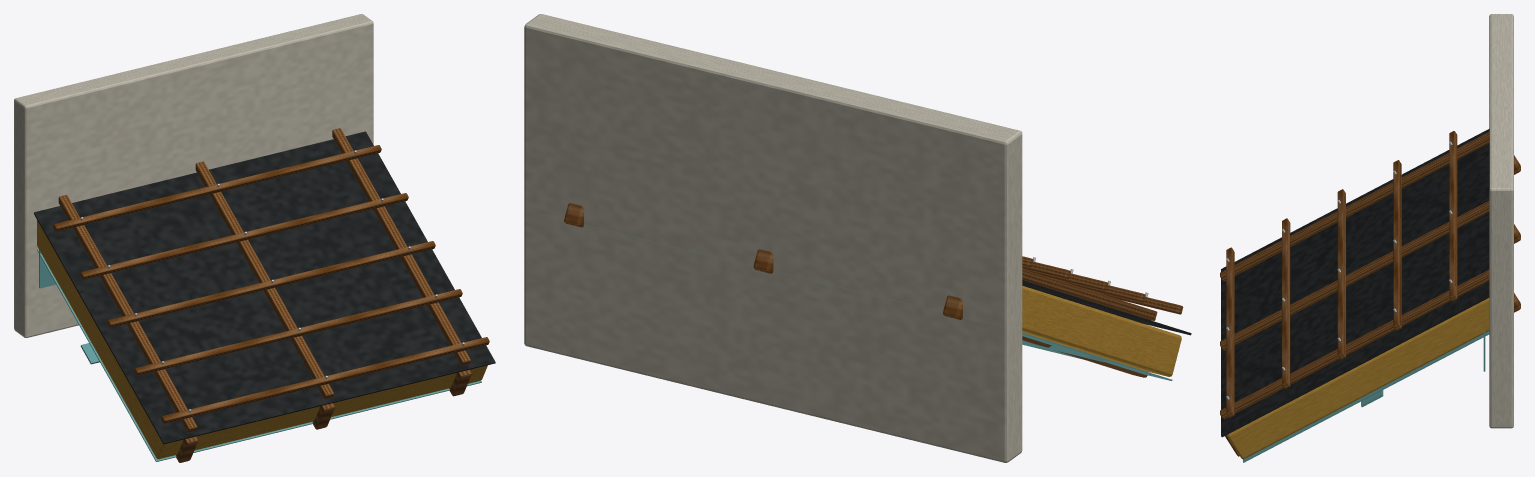
Rendered from modell.glb.
3 views of the same model, side by side, from view 1: azimuth 30°, elevation 25°; view 2: azimuth 150°, elevation 25°; view 3: azimuth 270°, elevation 25° (orthographic). The views are drawn at different scales.
Visible parts, largest first — view 1: g04-zusatzebene_zusatzebene, g04-wand_, g04-lattung_lattung, g04-daemmung_daemmung, g04-luftdichtheit_luftdichtheit, g04-sparren_tragwerk; view 2: g04-wand_, g04-daemmung_daemmung, g04-lattung_lattung, g04-sparren_tragwerk, g04-luftdichtheit_luftdichtheit, g04-zusatzebene_zusatzebene; view 3: g04-zusatzebene_zusatzebene, g04-lattung_lattung, g04-wand_, g04-daemmung_daemmung, g04-luftdichtheit_luftdichtheit, g04-sparren_tragwerk.
Boxes of the visible parts, left/top/right/bottom form: g04-zusatzebene_zusatzebene: left=34, top=131, right=495, bottom=444; g04-wand_: left=14, top=14, right=373, bottom=337; g04-lattung_lattung: left=53, top=128, right=489, bottom=432; g04-daemmung_daemmung: left=37, top=220, right=487, bottom=459; g04-luftdichtheit_luftdichtheit: left=37, top=249, right=481, bottom=461; g04-sparren_tragwerk: left=176, top=369, right=471, bottom=462; g04-wand_: left=524, top=14, right=1022, bottom=462; g04-daemmung_daemmung: left=1022, top=286, right=1181, bottom=376; g04-lattung_lattung: left=1022, top=256, right=1183, bottom=320; g04-sparren_tragwerk: left=564, top=203, right=1147, bottom=377; g04-luftdichtheit_luftdichtheit: left=540, top=214, right=1172, bottom=380; g04-zusatzebene_zusatzebene: left=1022, top=280, right=1191, bottom=335; g04-zusatzebene_zusatzebene: left=1221, top=129, right=1489, bottom=437; g04-lattung_lattung: left=1220, top=131, right=1489, bottom=419; g04-wand_: left=1489, top=14, right=1513, bottom=428; g04-daemmung_daemmung: left=1227, top=298, right=1489, bottom=459; g04-luftdichtheit_luftdichtheit: left=1243, top=331, right=1489, bottom=462; g04-sparren_tragwerk: left=1225, top=155, right=1520, bottom=456.
Bounding box in the file's own units: 2.2 × 1.66 × 1.59.
Materials: 6 (4 with a texture image).
